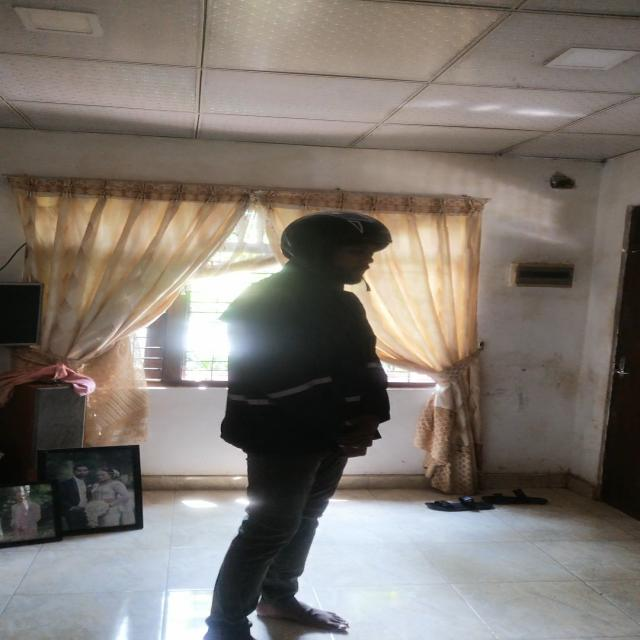Helmet_Wearer: (260, 203, 396, 304)
Jacket_Wearer: (213, 272, 397, 470)
Person: (191, 206, 440, 640)
